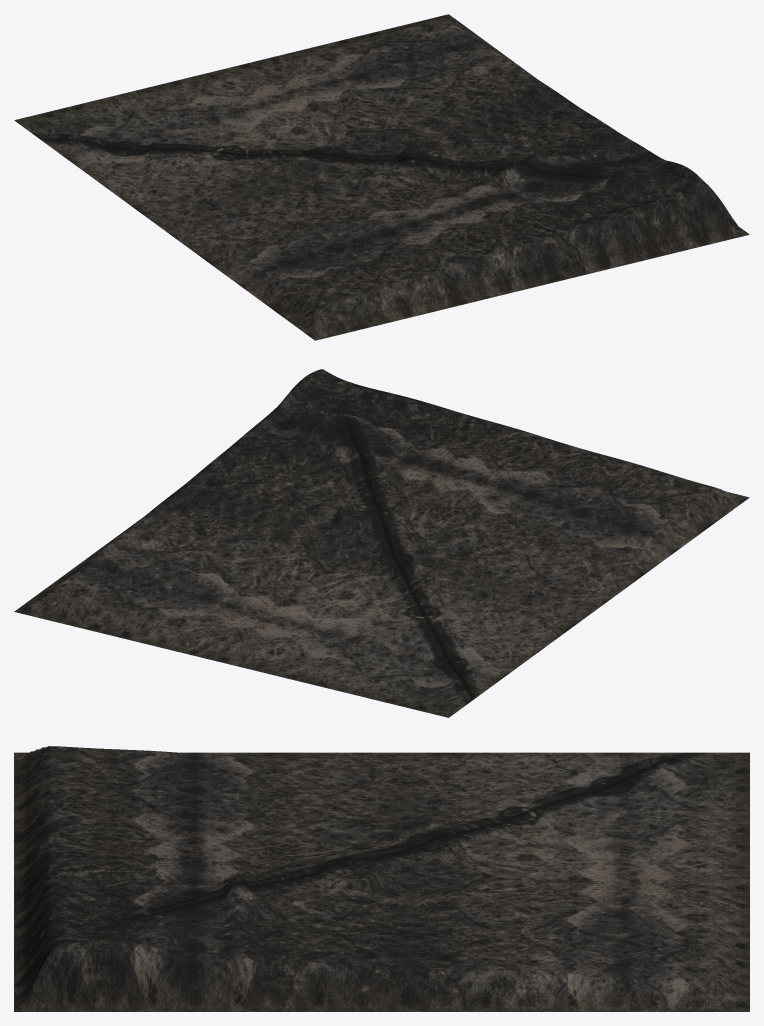
The model's file is blackout-ridge-terrain.glb.
3 renders of one model, top to bottom at view 1: azimuth 30°, elevation 25°; view 2: azimuth 150°, elevation 25°; view 3: azimuth 270°, elevation 25°, orthographic. The views are drawn at different scales.
Visible parts, largest first — view 1: BlackoutRidgeTerrain; view 2: BlackoutRidgeTerrain; view 3: BlackoutRidgeTerrain.
Boxes of the visible parts, x1,y1,x2,y2 form: BlackoutRidgeTerrain: [14, 14, 749, 340]; BlackoutRidgeTerrain: [14, 369, 749, 717]; BlackoutRidgeTerrain: [14, 746, 749, 1011].
Bounding box in the file's own units: 80 × 8.36 × 96.
1 material, 1 textured.
